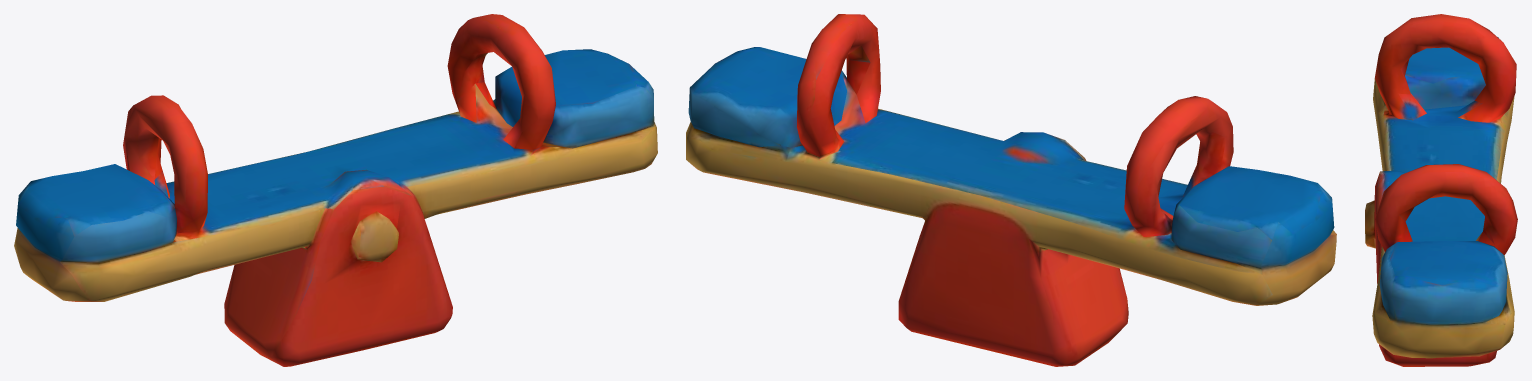
The model's file is seesaw.glb.
3 views of the same model, side by side, from view 1: azimuth 30°, elevation 25°; view 2: azimuth 150°, elevation 25°; view 3: azimuth 270°, elevation 25° (orthographic). The views are drawn at different scales.
Parts seen in each view (by area): view 1: textured_mesh.obj; view 2: textured_mesh.obj; view 3: textured_mesh.obj.
Boxes of the visible parts, x1,y1,x2,y2 form: textured_mesh.obj: (14, 14, 657, 366); textured_mesh.obj: (686, 14, 1336, 366); textured_mesh.obj: (1365, 14, 1517, 366).
Size of what is drawn, in the model's own units: 1.89 by 0.7999 by 0.456.
Materials: 1 (1 with a texture image).
